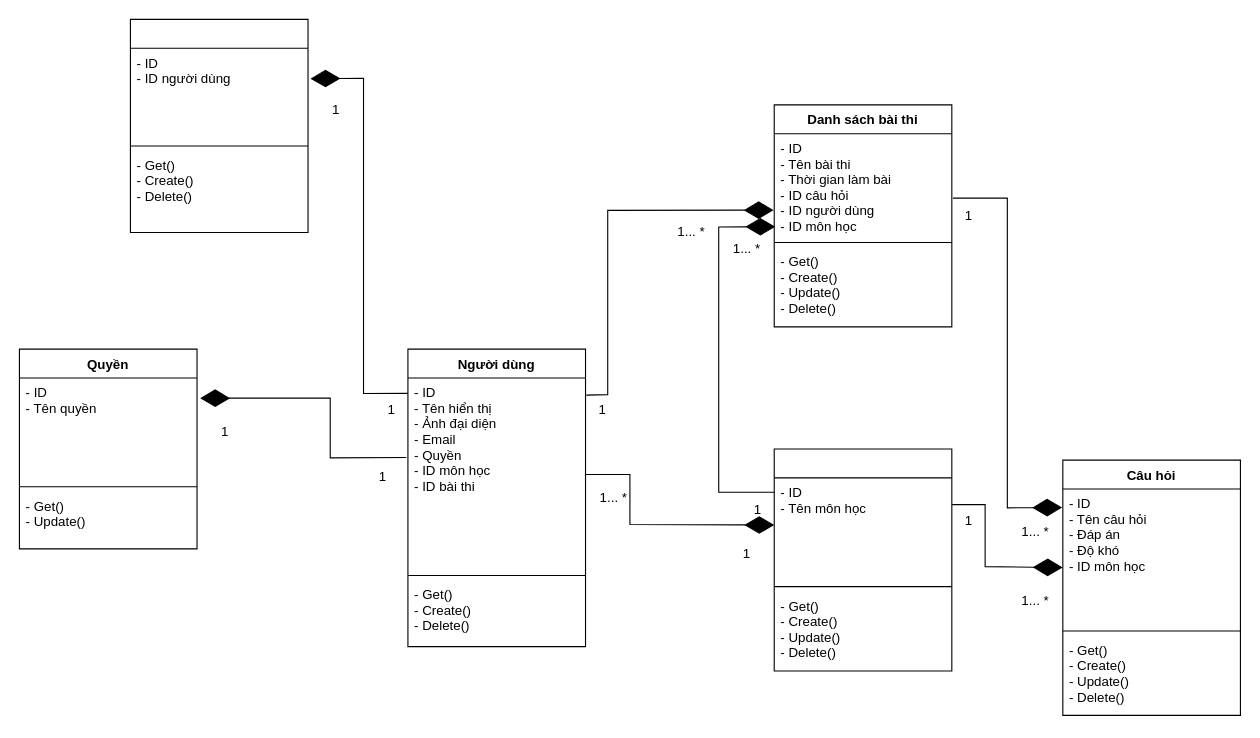
The diagram is 1260 pixels wide and 738 high, and some of its shapes have lost their labels. Each missing label, with the box of its shape:
Danh sách môn học: (773, 448, 952, 671)
Lịch sử làm bài: (129, 18, 308, 233)
